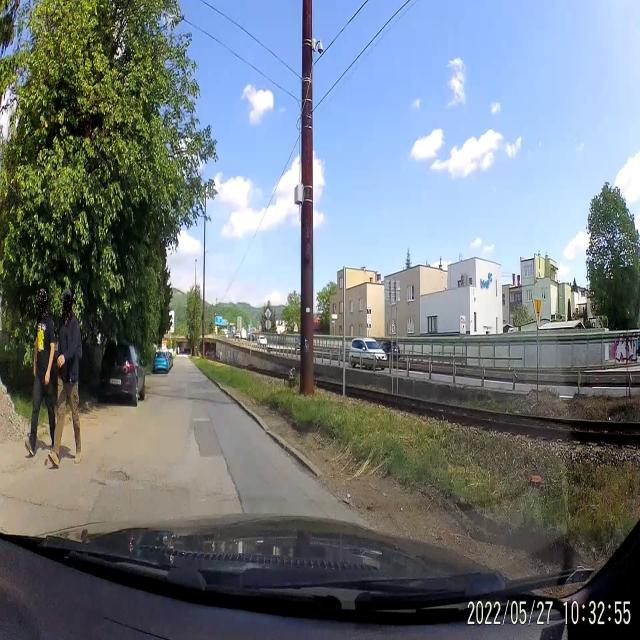Pothole: (106, 464, 130, 486)
